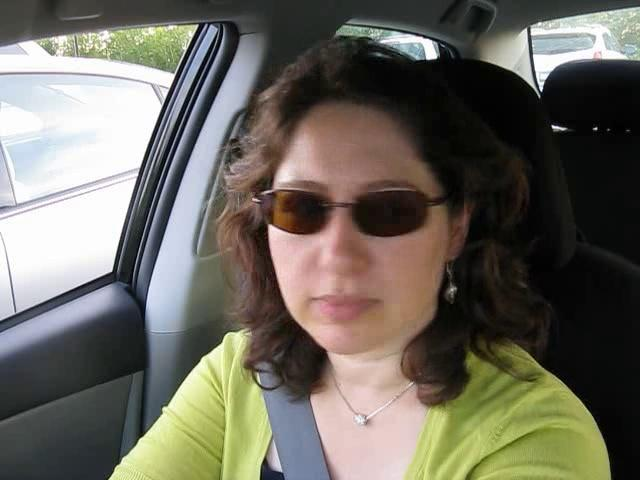no_yawn: (290, 282, 391, 324)
